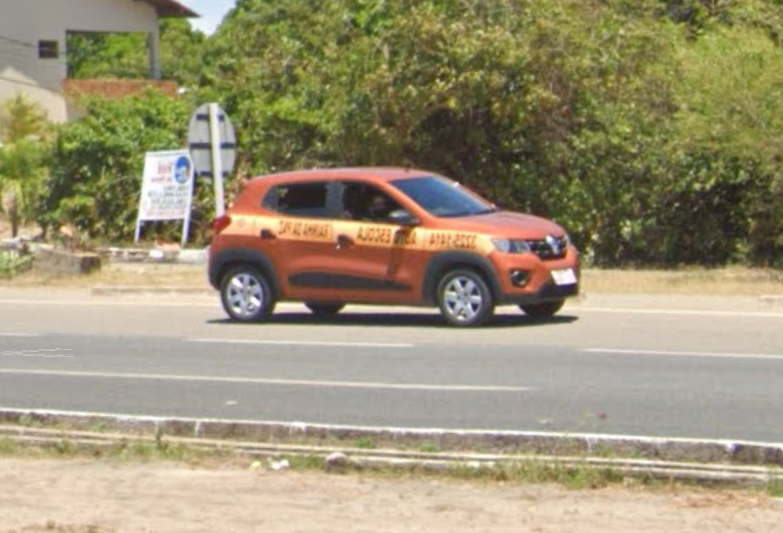car: (207, 166, 584, 330)
